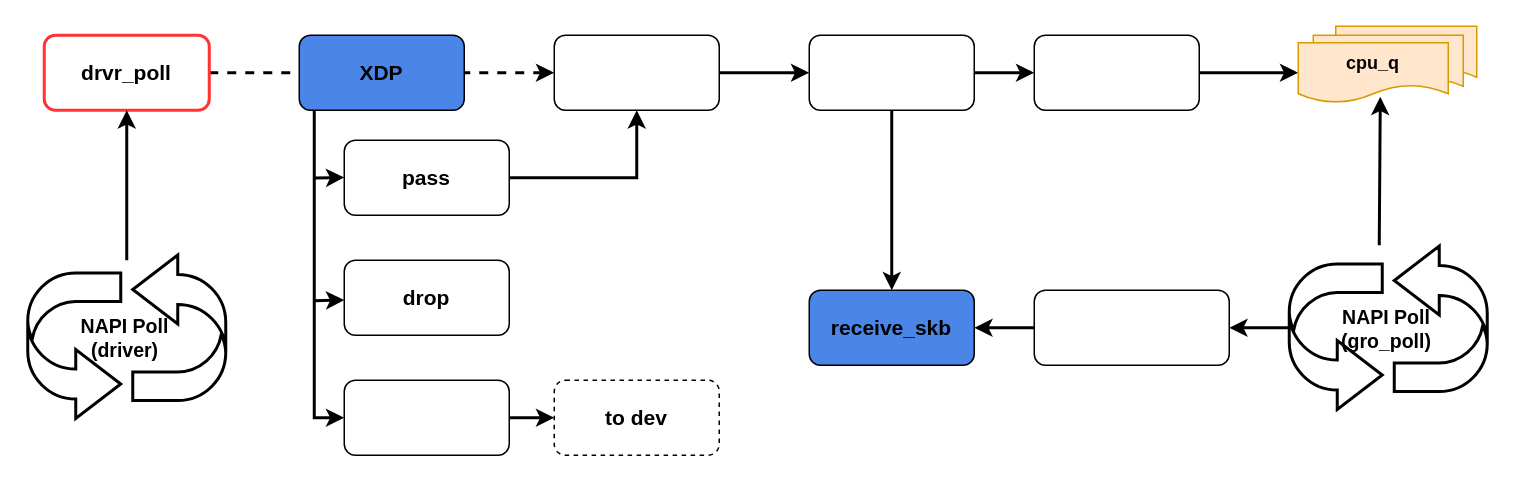
This 1514x482 diagram has some shape labels left out. Here are the shapes that lost their labels. From the top down, the centre of each, then its label:
At point 636,72: "clean_rx (skb)".
At point 891,72: "gro_rx".
At point 1116,72: "enq_backlog".
At point 1131,327: "process_backlog".
At point 426,417: "redirect/ transmit".
